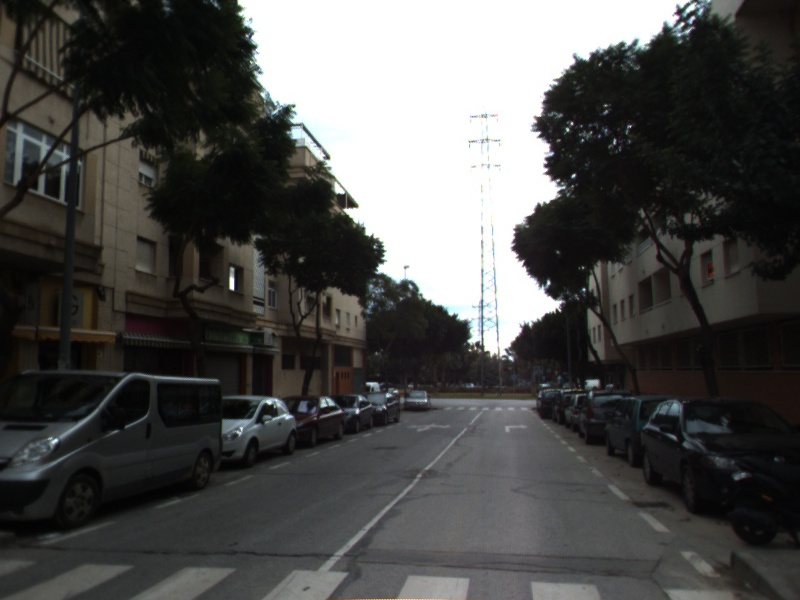RIGHT: (502, 421, 531, 434)
